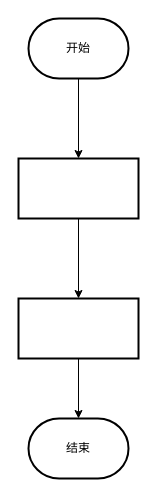
Image size: 156x496. Some labels were removed from this diagram. Each missing label, with the centre of its shape:
"step1" belongs at (x=78, y=188).
"step3" belongs at (x=78, y=328).
